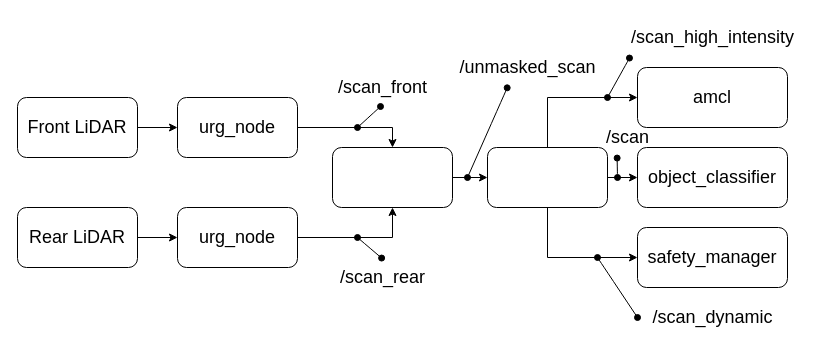
Some shapes in this 825 by 354 pixel diagram are drawn without their labels. The centre of each missing label's shape, as x and y in pixels:
"laserscan_ multi_merger" goes at point (392, 177).
"scan_post_ filter" goes at point (547, 177).
